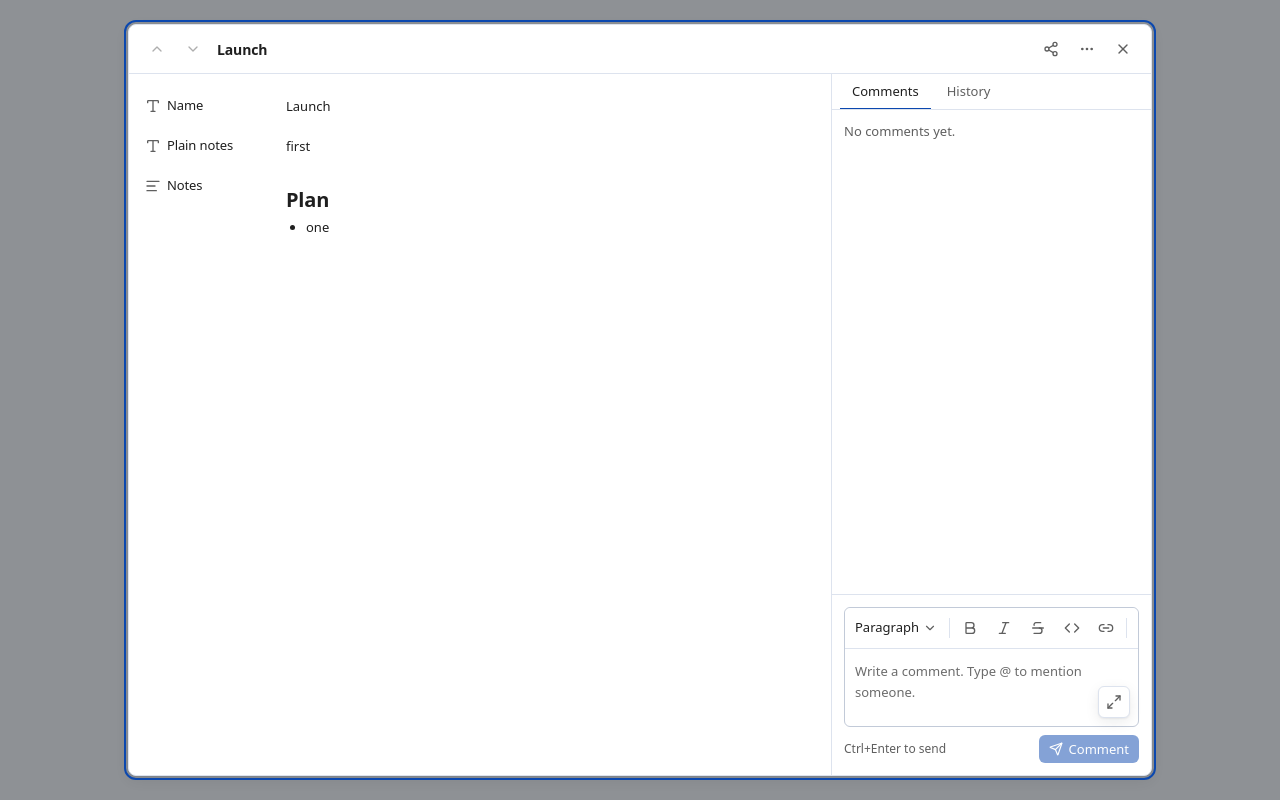
Test: ExpandedRecord: save status › says Couldn't save when a save fails, and the field keeps its message
This screenshot has width=1280, height=800.
Click the button with aria-label "Edit Name" at (308, 106), box [286,97,330,115]
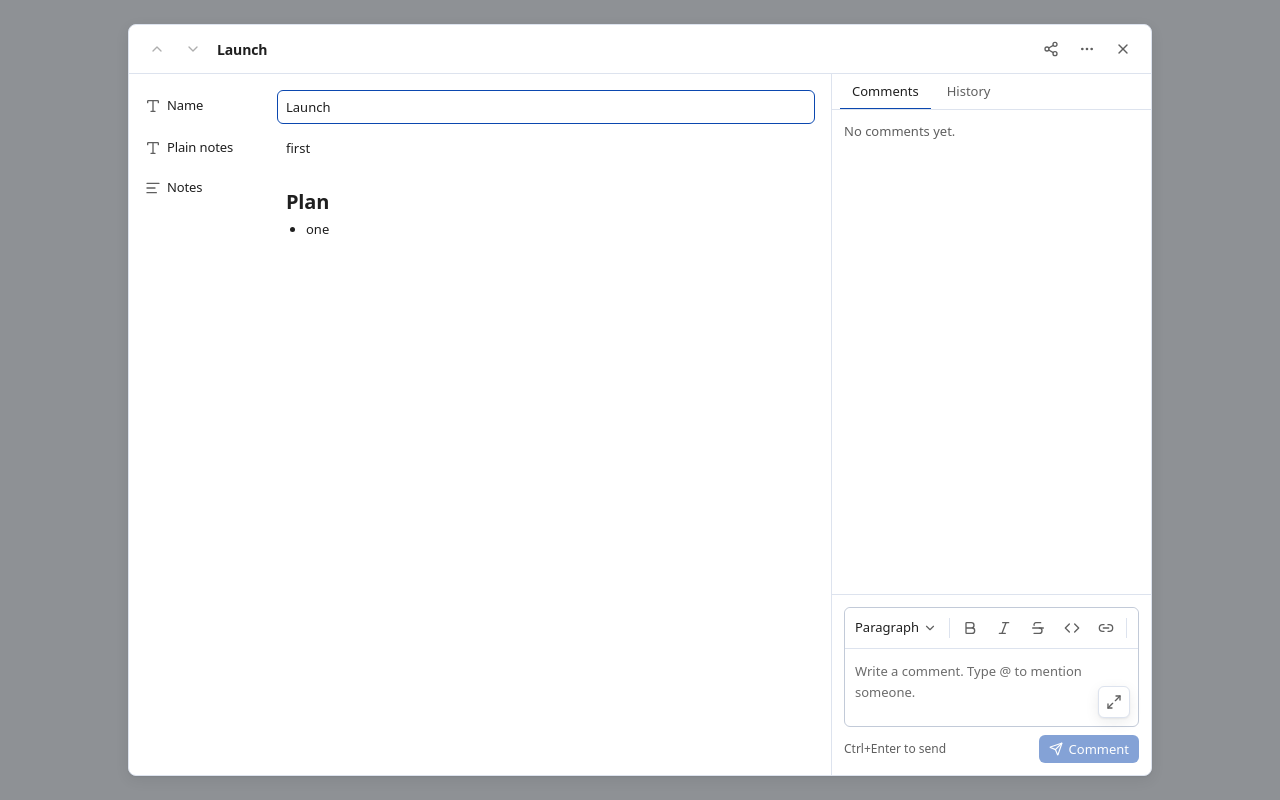
Replace the text in the field labelled "Name" with "Ship it" at (546, 107), box [278,91,814,123]
Then press Enter
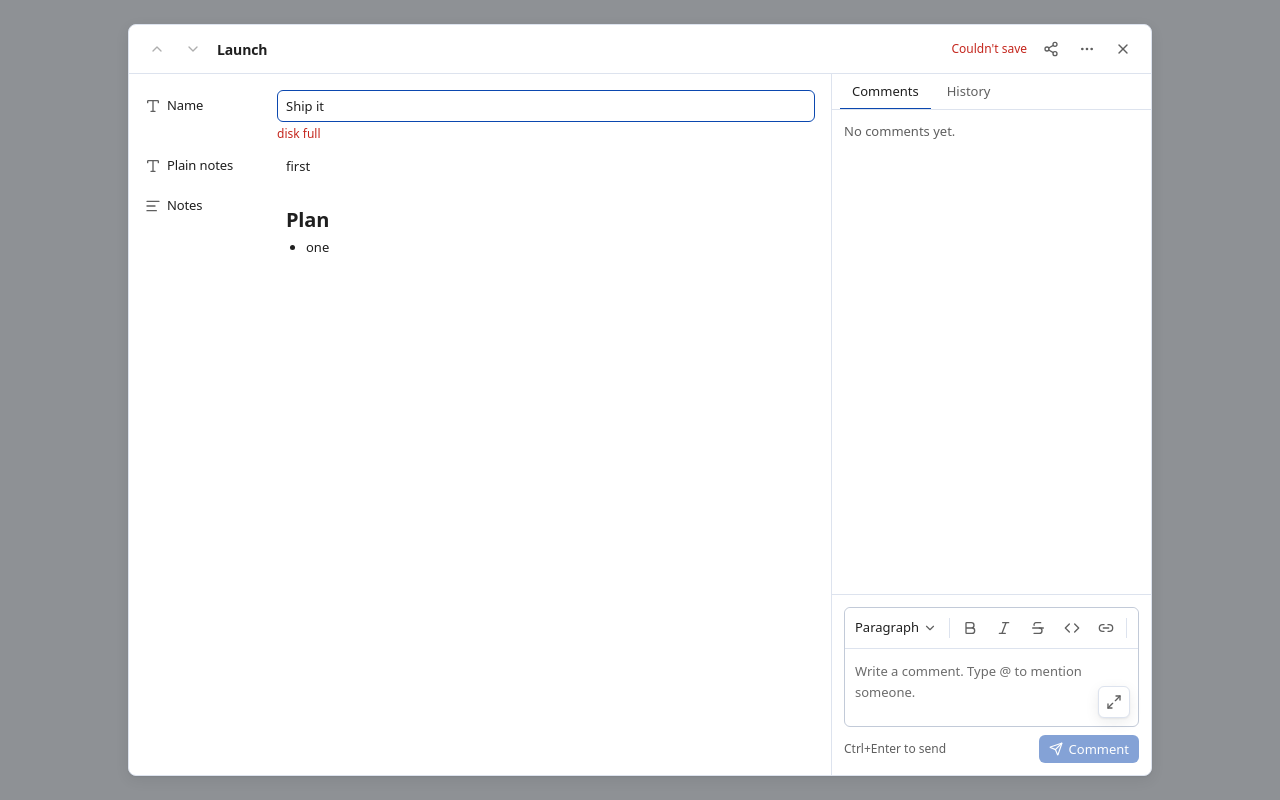
Now the text "Couldn't save" is shown, box [948,41,1031,57]
